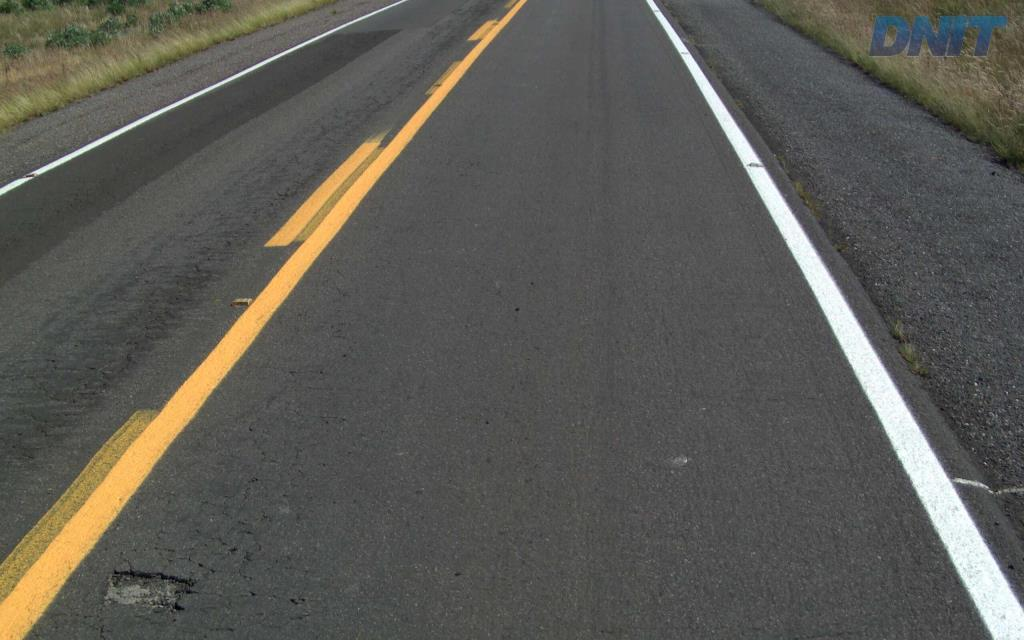pothole: (99, 564, 201, 619)
